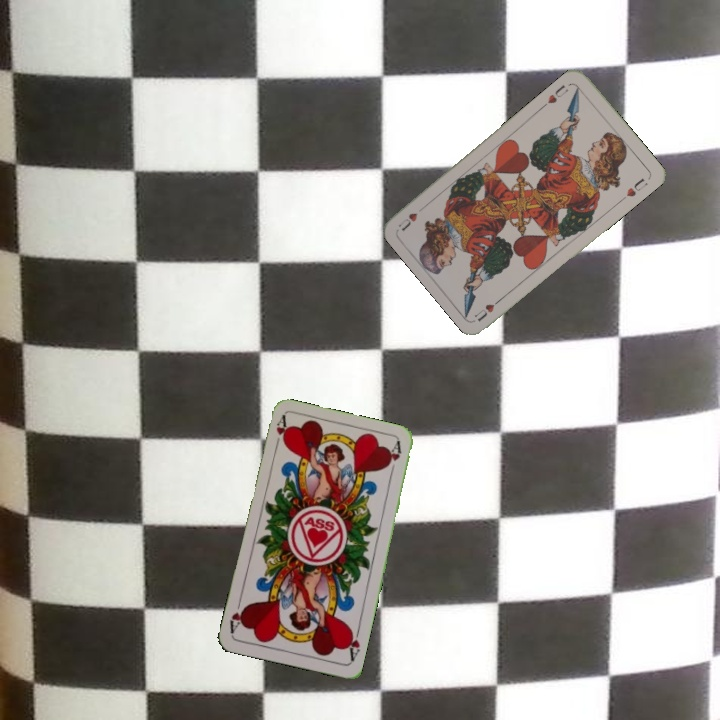HA: (342, 624, 362, 664), (271, 412, 290, 453)
HU: (470, 293, 506, 324), (544, 80, 571, 106)
